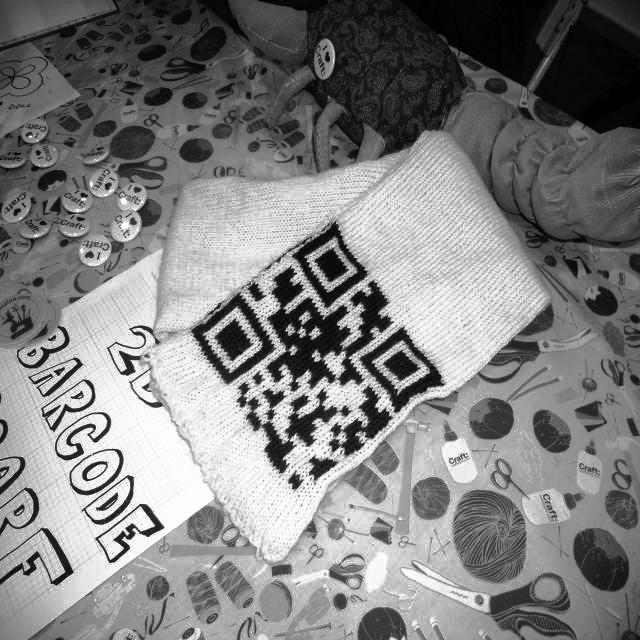qr_code: (192, 223, 444, 498)
